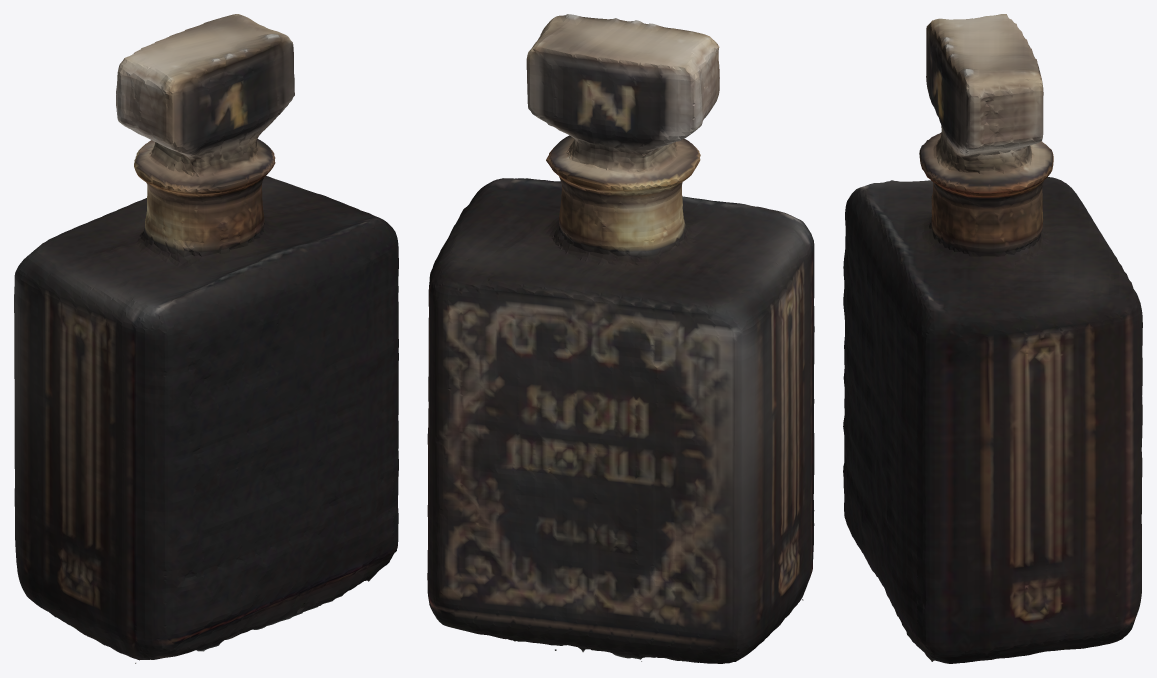
Rendered from product1.glb.
3 renders of one model, left to right at view 1: azimuth 30°, elevation 25°; view 2: azimuth 150°, elevation 25°; view 3: azimuth 270°, elevation 25°, orthographic. The views are drawn at different scales.
Visible parts, largest first — view 1: world; view 2: world; view 3: world.
Boxes of the visible parts, x1,y1,x2,y2 form: world: [14, 14, 398, 663]; world: [427, 14, 814, 663]; world: [843, 14, 1142, 663].
Size of the model in its own units: 1.22 by 2.01 by 0.9847.
